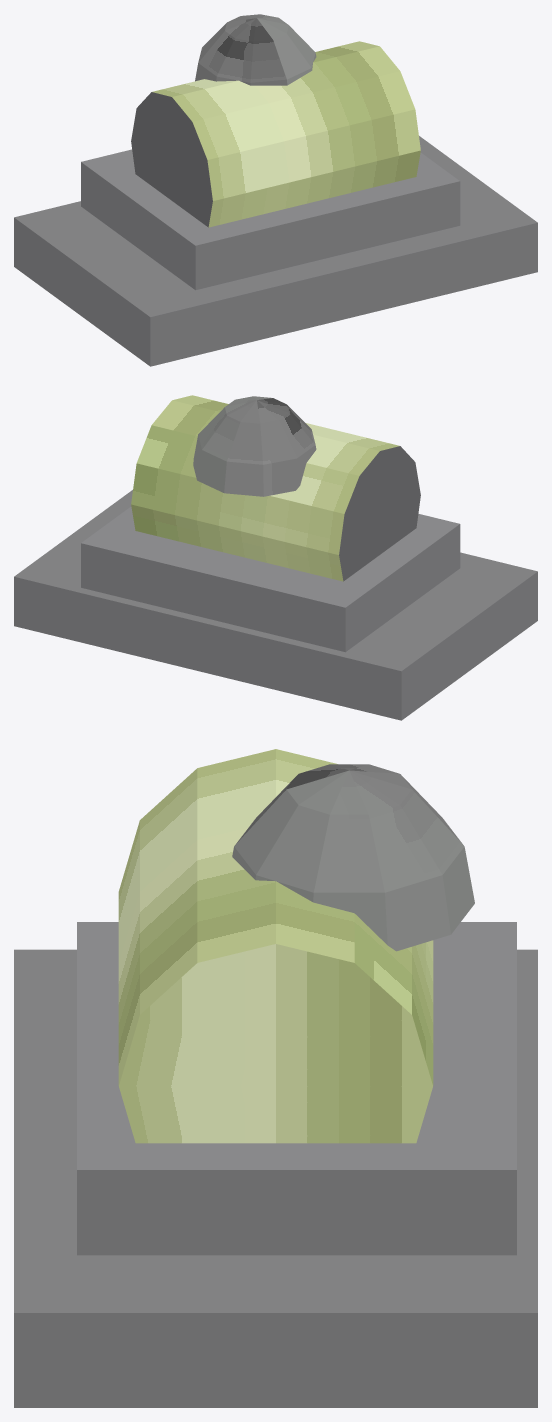
Rendered from Building_TrapIED_ToxGas.glb.
The picture shows the model from 3 angles, top to bottom: view 1: azimuth 30°, elevation 25°; view 2: azimuth 150°, elevation 25°; view 3: azimuth 270°, elevation 25°; orthographic projection. The views are drawn at different scales.
Parts seen in each view (by area): view 1: TrapIED_ToxGas; view 2: TrapIED_ToxGas; view 3: TrapIED_ToxGas.
Part boxes in pixels (x1,y1,x2,y2): TrapIED_ToxGas: [14, 14, 537, 366]; TrapIED_ToxGas: [14, 395, 537, 720]; TrapIED_ToxGas: [14, 749, 537, 1407].
Size of the model in its own units: 0.82 by 0.48 by 0.5.
1 material, 1 textured.
